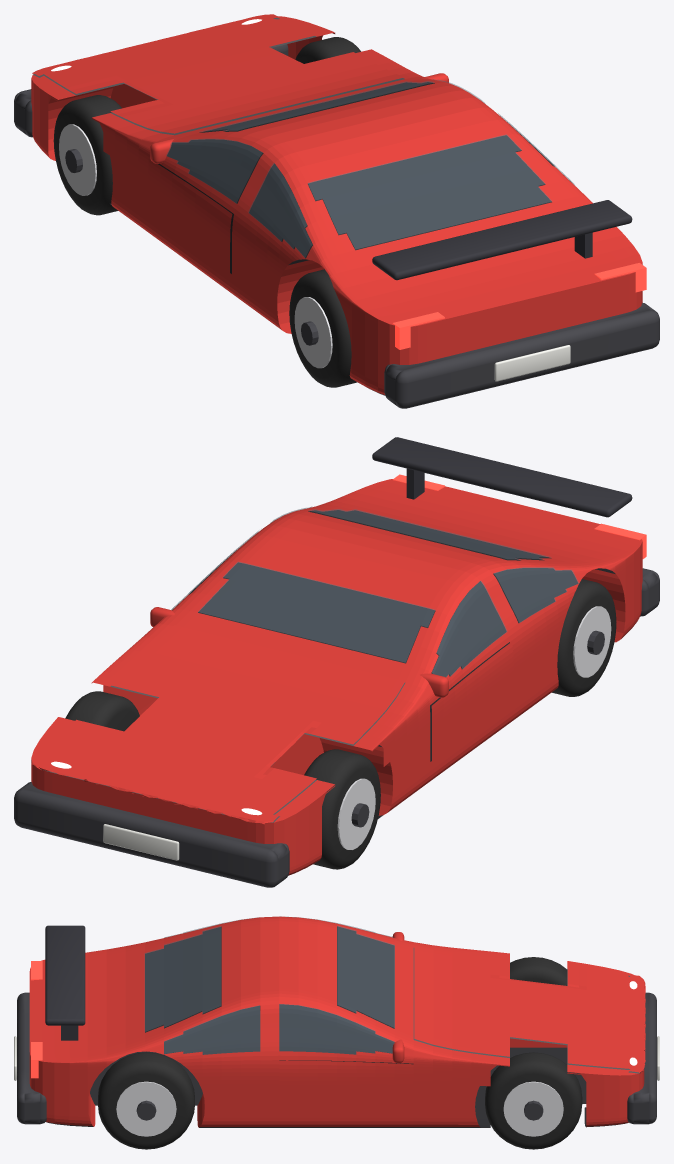
File: car_rocket.glb
3 views of the same model, one above another, from view 1: azimuth 30°, elevation 25°; view 2: azimuth 150°, elevation 25°; view 3: azimuth 270°, elevation 25° (orthographic). The views are drawn at different scales.
Visible parts, largest first — view 1: body, hood, glass_r, bumper_r, extra_spoiler, glass_l, wheel_fl, wheel_rl, door_l, glass_f, extra_plate_r, light_r (+2 smaller); view 2: body, hood, glass_f, bumper_f, extra_spoiler, glass_l, wheel_fl, wheel_rl, door_l, glass_r, wheel_fr, extra_plate_f (+2 smaller); view 3: body, hood, wheel_rr, wheel_fr, glass_r_side, door_r, glass_r, glass_f, extra_spoiler, bumper_r, bumper_f, wheel_fl (+1 smaller).
Boxes of the visible parts, x1,y1,x2,y2 form: body: [31, 16, 642, 395]; hood: [32, 14, 404, 133]; glass_r: [308, 134, 552, 249]; bumper_r: [384, 303, 659, 408]; extra_spoiler: [372, 200, 632, 280]; glass_l: [166, 138, 312, 257]; wheel_fl: [53, 95, 121, 215]; wheel_rl: [289, 269, 357, 387]; door_l: [148, 158, 232, 274]; glass_f: [199, 81, 434, 131]; extra_plate_r: [494, 345, 570, 381]; light_r: [392, 263, 646, 349]; body: [31, 479, 642, 875]; hood: [31, 625, 404, 824]; glass_f: [198, 561, 435, 662]; bumper_f: [14, 782, 289, 887]; extra_spoiler: [372, 437, 632, 517]; glass_l: [432, 567, 578, 676]; wheel_fl: [304, 749, 380, 869]; wheel_rl: [552, 579, 616, 696]; door_l: [431, 642, 513, 762]; glass_r: [308, 509, 551, 559]; wheel_fr: [65, 691, 139, 731]; extra_plate_f: [103, 824, 179, 860]; body: [29, 916, 644, 1127]; hood: [414, 946, 645, 1073]; wheel_rr: [98, 1052, 194, 1149]; wheel_fr: [485, 1052, 582, 1149]; glass_r_side: [164, 1004, 394, 1054]; door_r: [279, 1060, 413, 1110]; glass_r: [144, 926, 221, 1031]; glass_f: [337, 926, 394, 1027]; extra_spoiler: [45, 925, 85, 1040]; bumper_r: [17, 992, 46, 1124]; bumper_f: [627, 992, 656, 1124]; wheel_fl: [510, 957, 567, 985].
Bounding box in the file's own units: 1.96 × 1.09 × 4.52.
